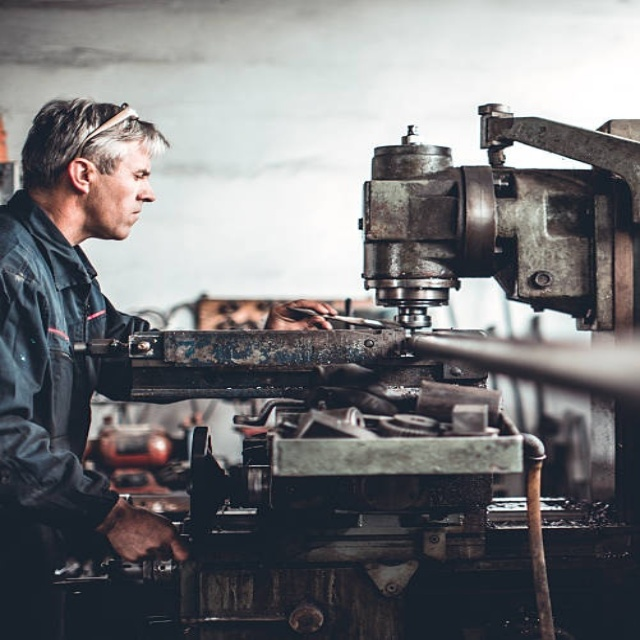Sin_gafas: (98, 160, 155, 184)
Sin_guantes: (93, 495, 189, 566), (265, 299, 341, 330)
Sin_mascara: (101, 201, 143, 237)
